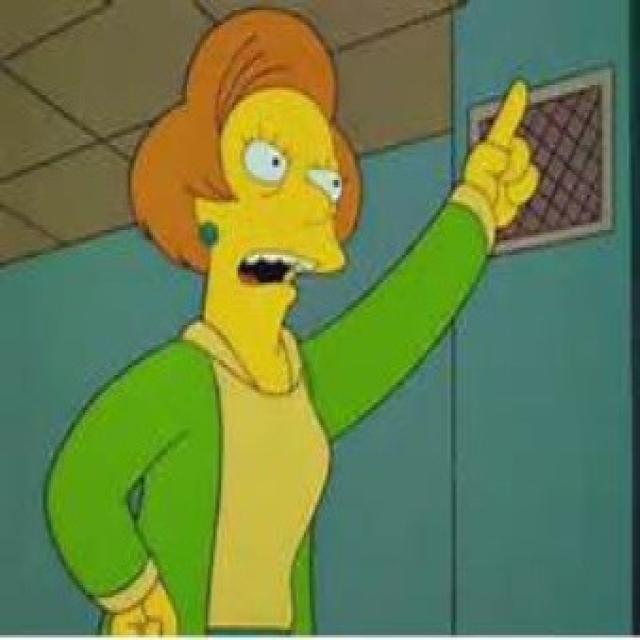Edna Krappel: (128, 4, 370, 386)
